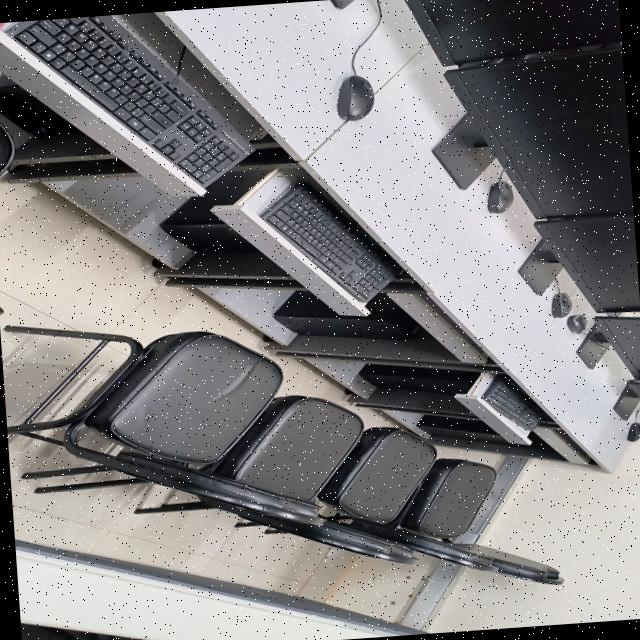Chair: (3, 324, 312, 515), (134, 394, 414, 562), (318, 425, 558, 579), (393, 457, 563, 582), (0, 122, 14, 177)
Cpu: (160, 170, 285, 274), (273, 290, 418, 338), (359, 363, 479, 395), (417, 413, 494, 433), (447, 428, 458, 434)
Keyboard: (14, 14, 253, 186), (261, 183, 397, 301), (482, 375, 541, 428), (342, 78, 351, 91)
Monitor: (445, 49, 633, 217), (406, 0, 621, 64), (534, 214, 640, 311), (594, 315, 640, 379), (629, 378, 640, 398)
Mouse: (337, 74, 374, 119), (488, 179, 513, 212), (552, 291, 572, 316), (567, 313, 588, 332), (627, 421, 640, 440)
